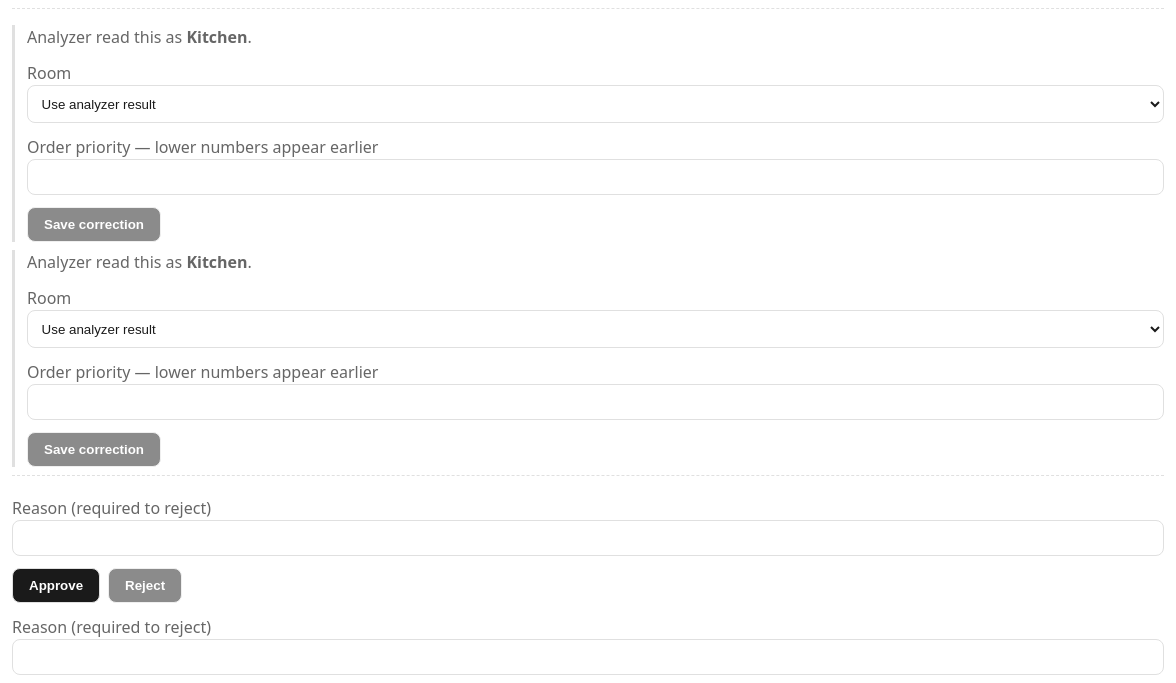
it: unsaved corrections block the review decision › blocks the decision when any correction mounted with it is dirty
This screenshot has width=1176, height=683.
Type "3" into the field named "Order priority for b.jpg" at (596, 402), box [27,384,1164,420]
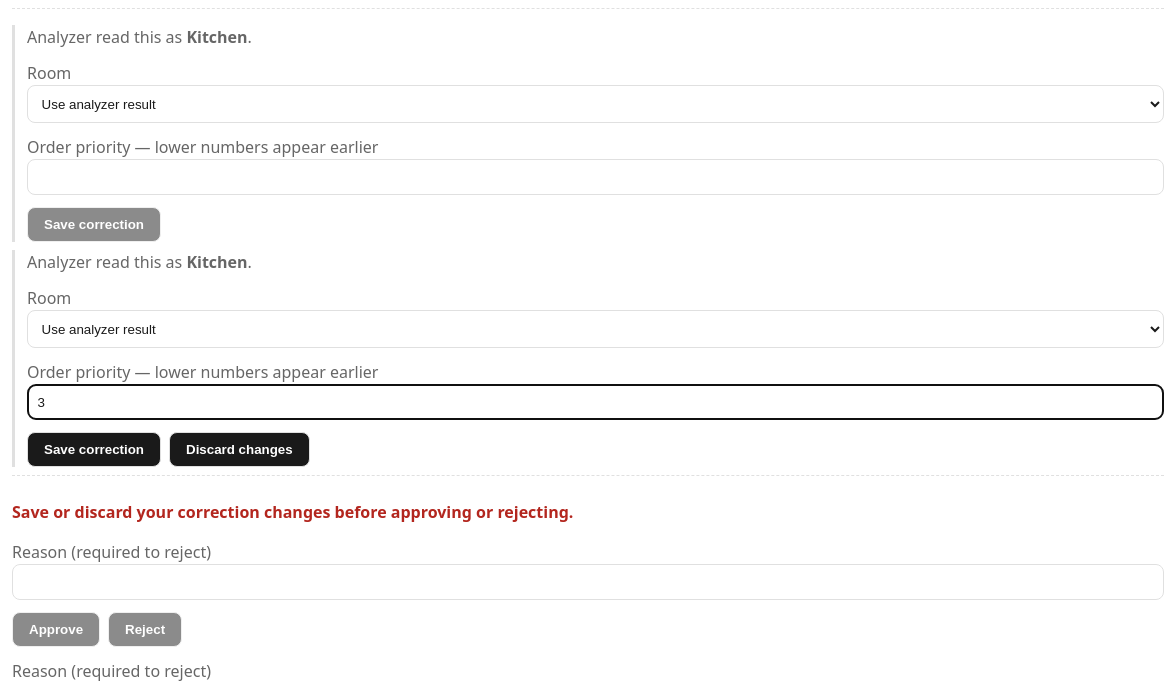
Now the text "Save or discard your correction changes" is shown, box [12,501,573,523]
